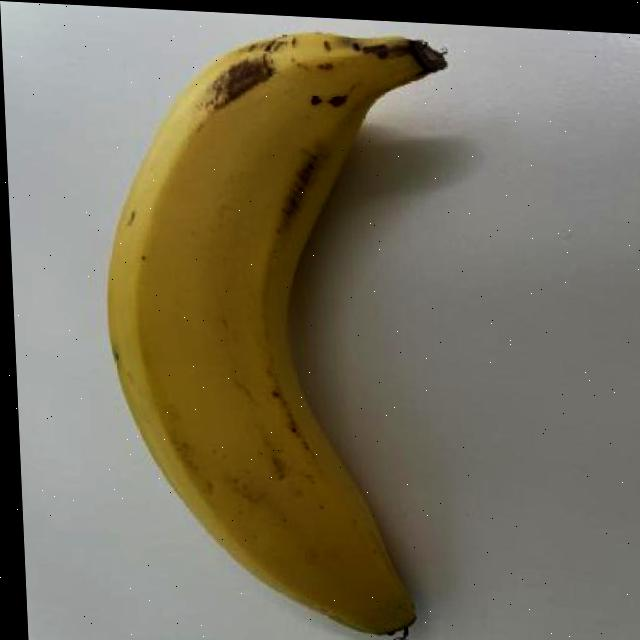banana: (88, 17, 477, 640)
